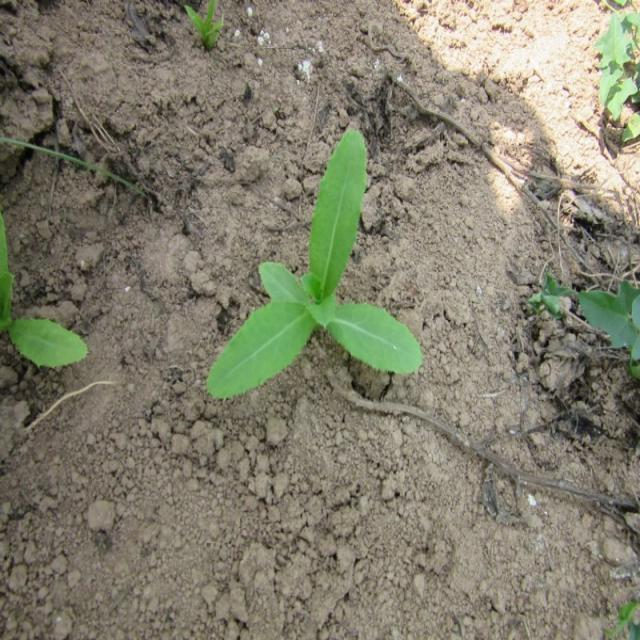cs: (205, 122, 428, 410)
